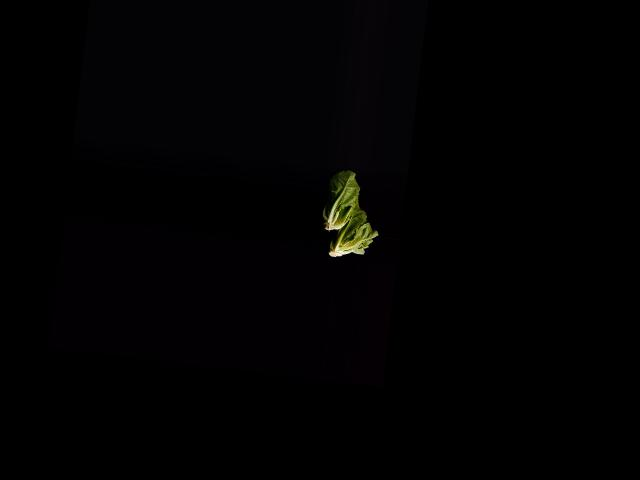lettuce: (321, 195, 381, 261)
